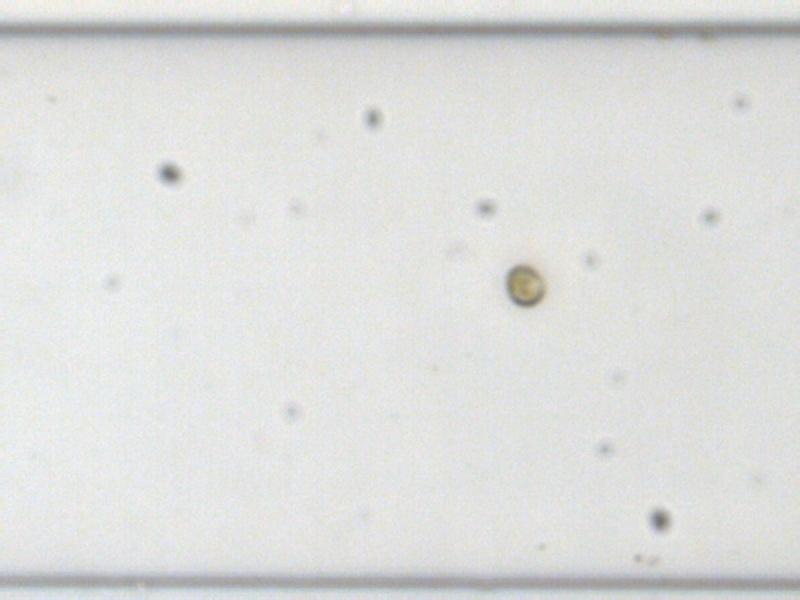Effrenium: (505, 264, 548, 306)
